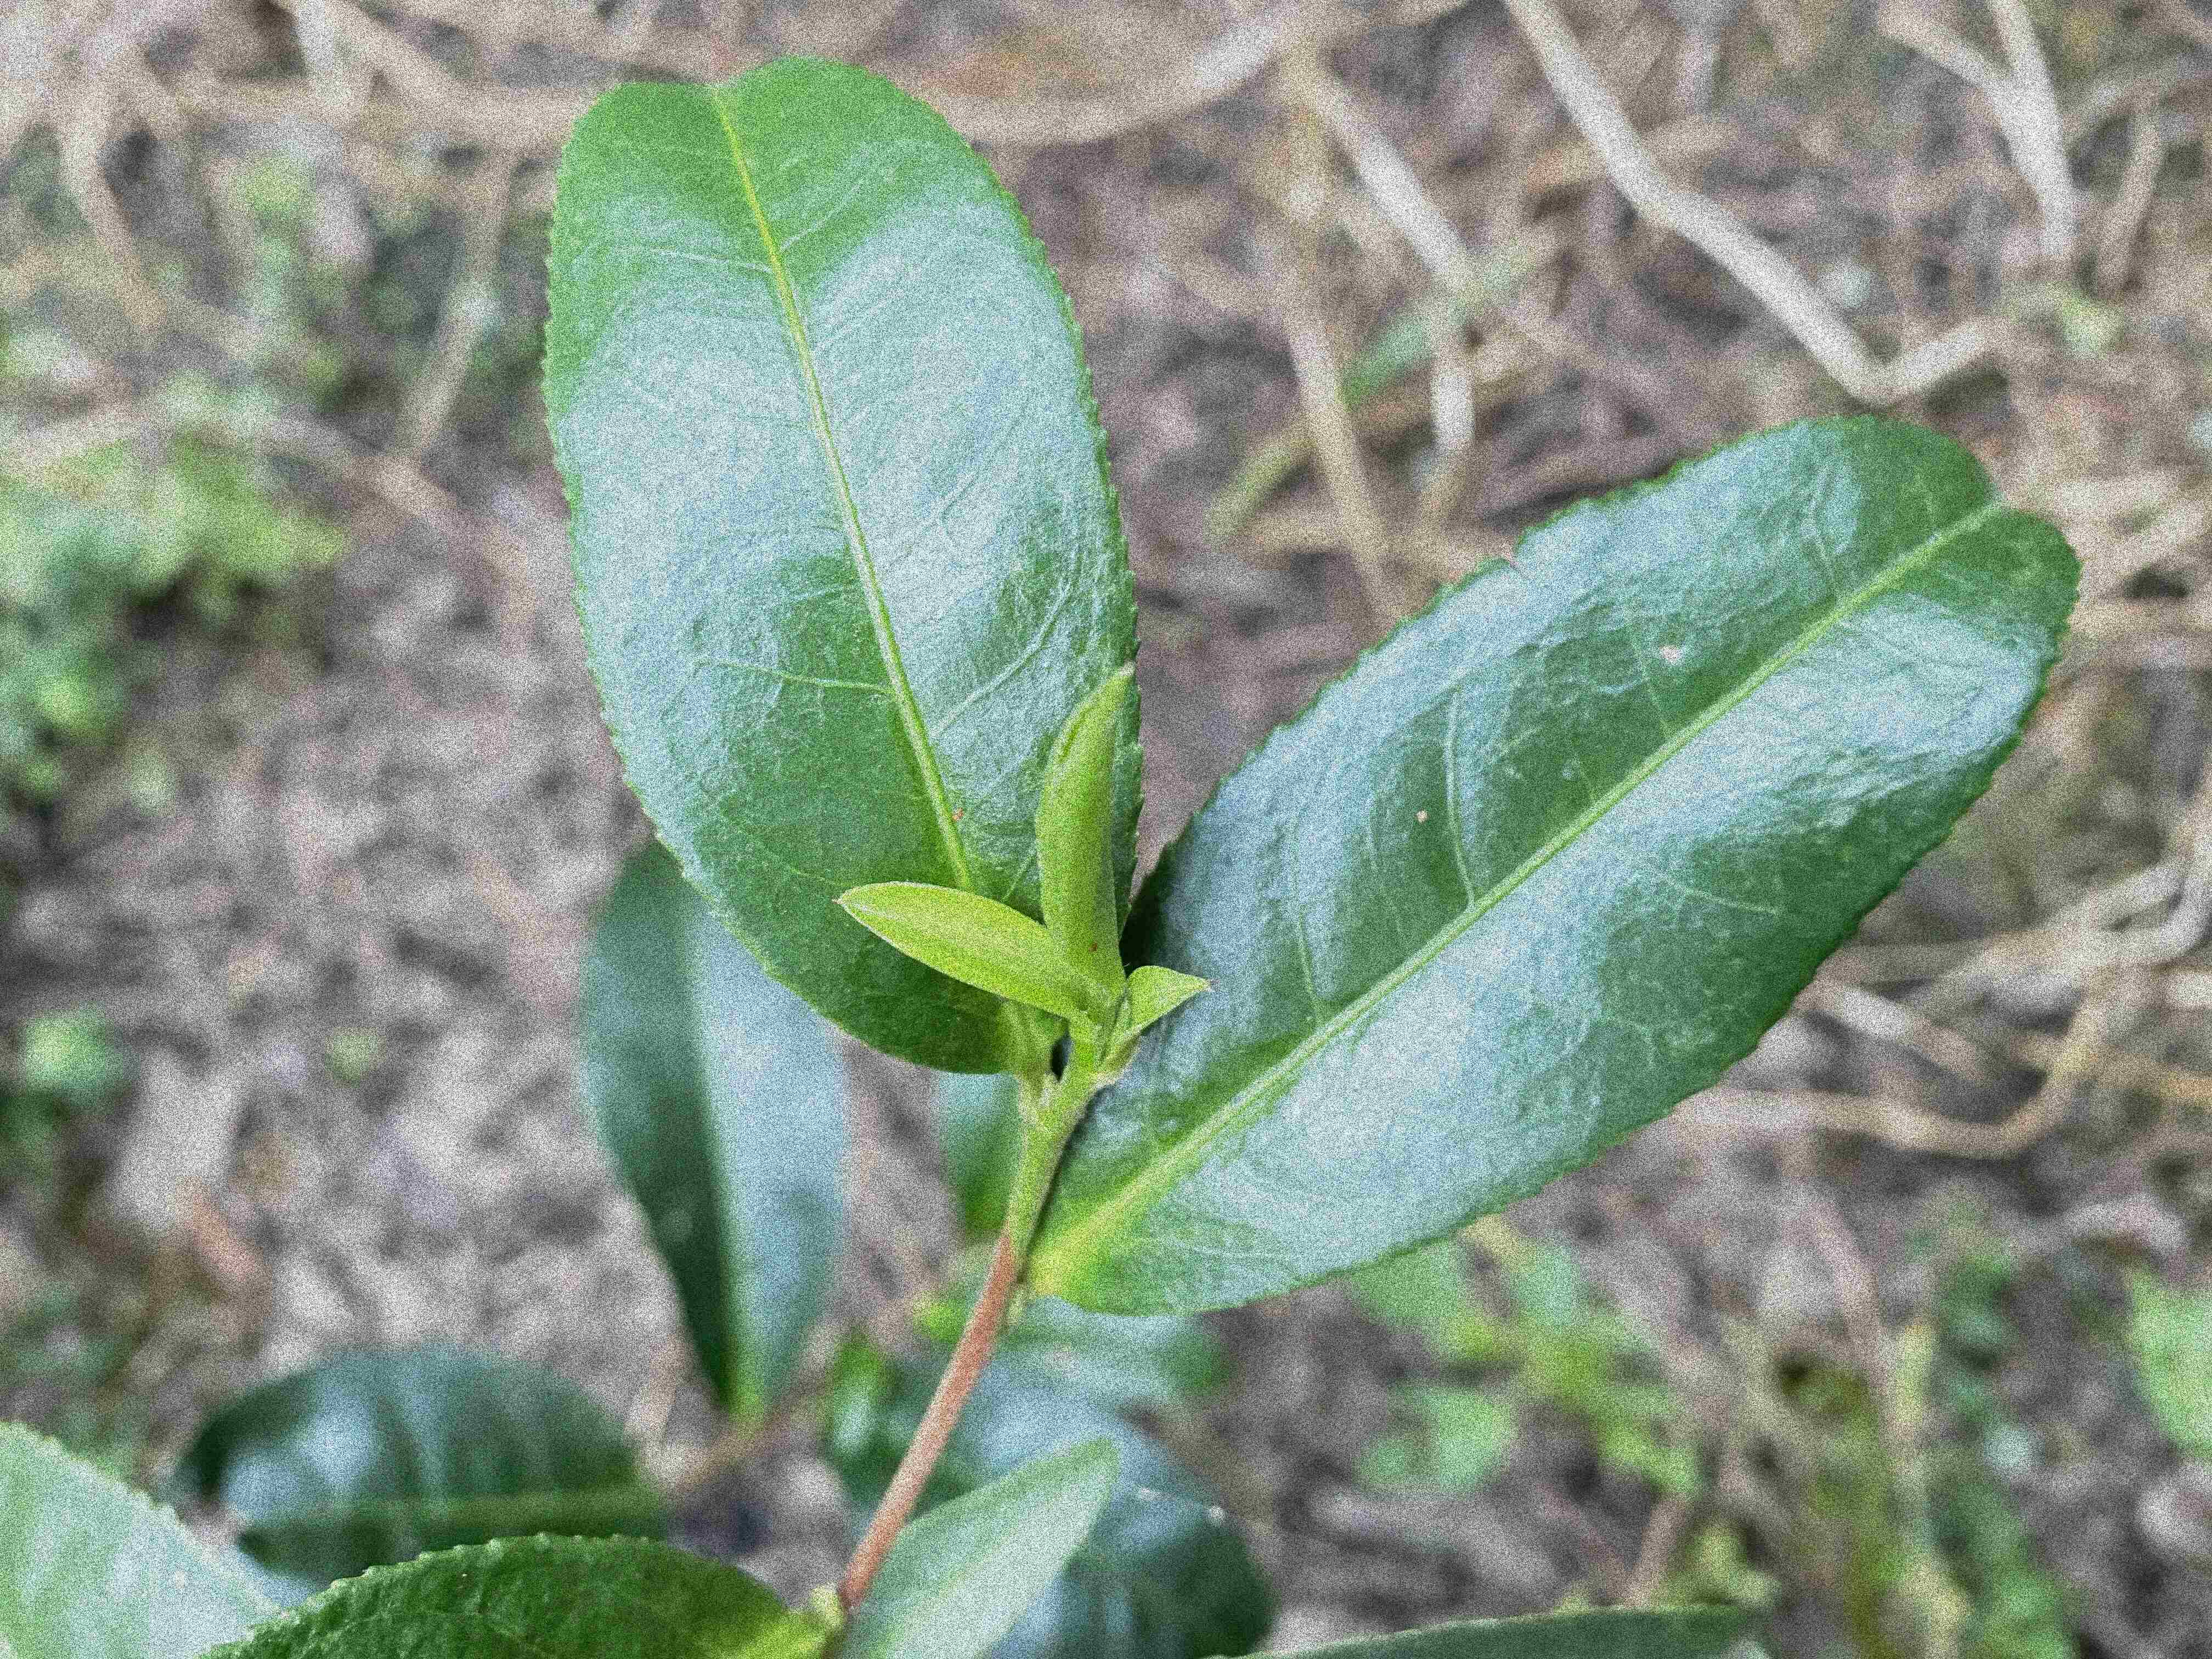healthy: (538, 52, 1148, 1079)
tanju_low: (1029, 413, 2083, 1317)
